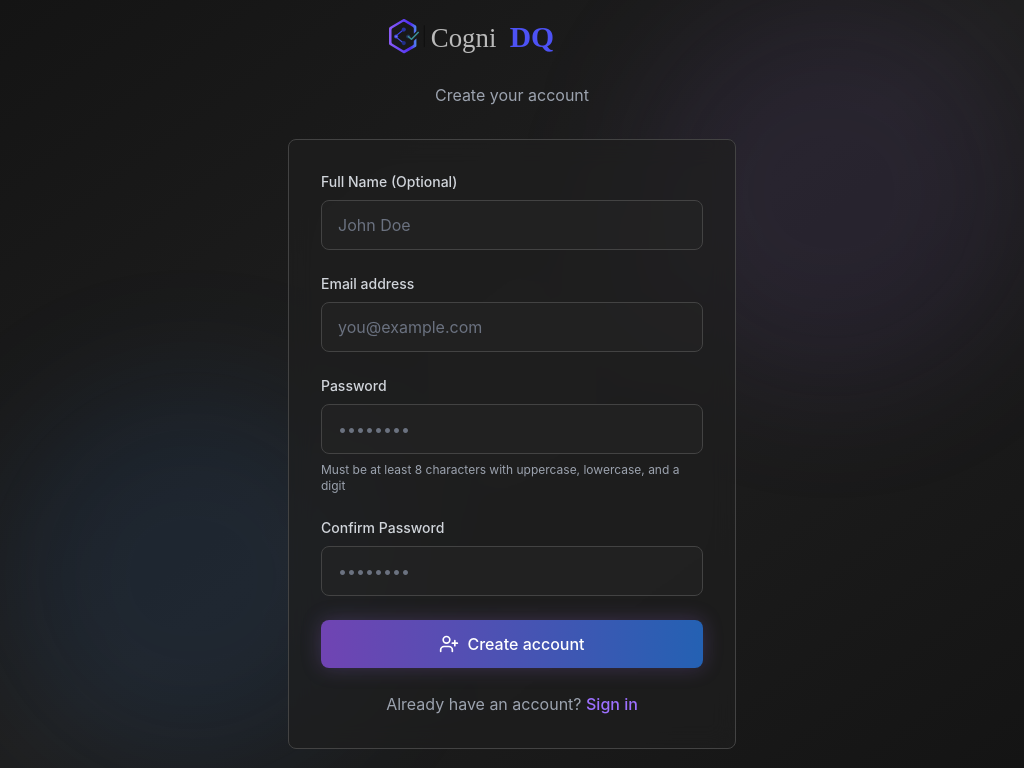
Scenario: Register — 422 error handling (F131 P01) › T01-02: displays plain string detail directly
The image size is (1024, 768).
In the field with placeholder "you@example.com": x=512, y=327 [321,302,703,352], type "test@example.com"
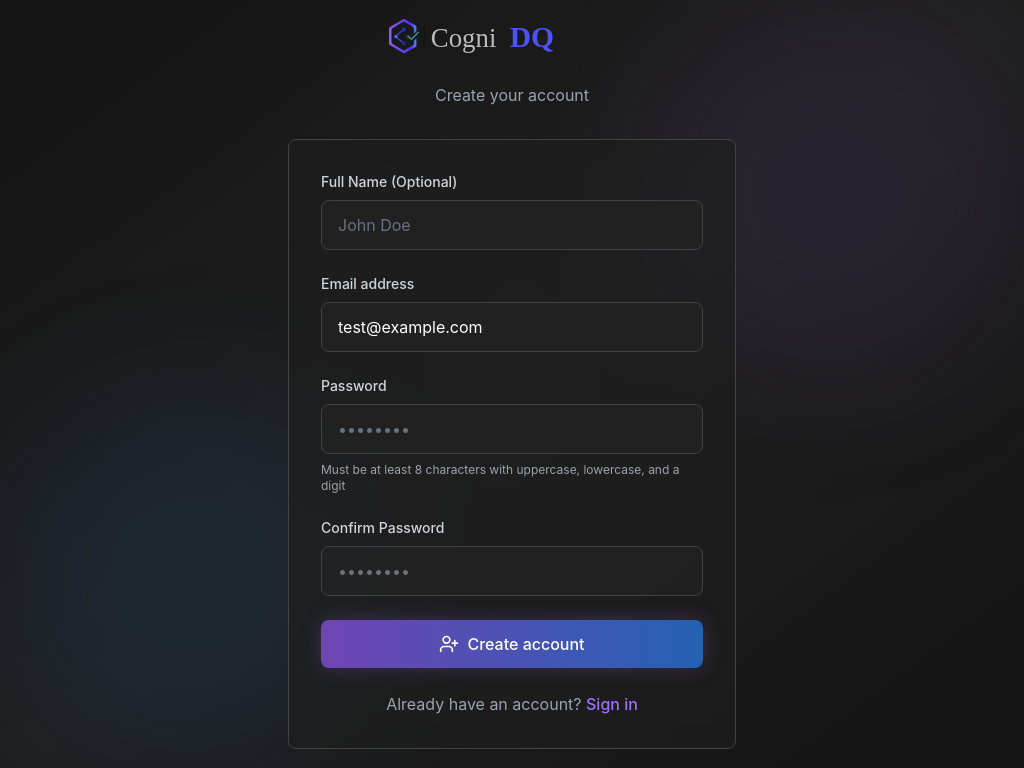
In the password field with placeholder "••••••••": x=512, y=429 [321,404,703,454], type "ValidPass1"
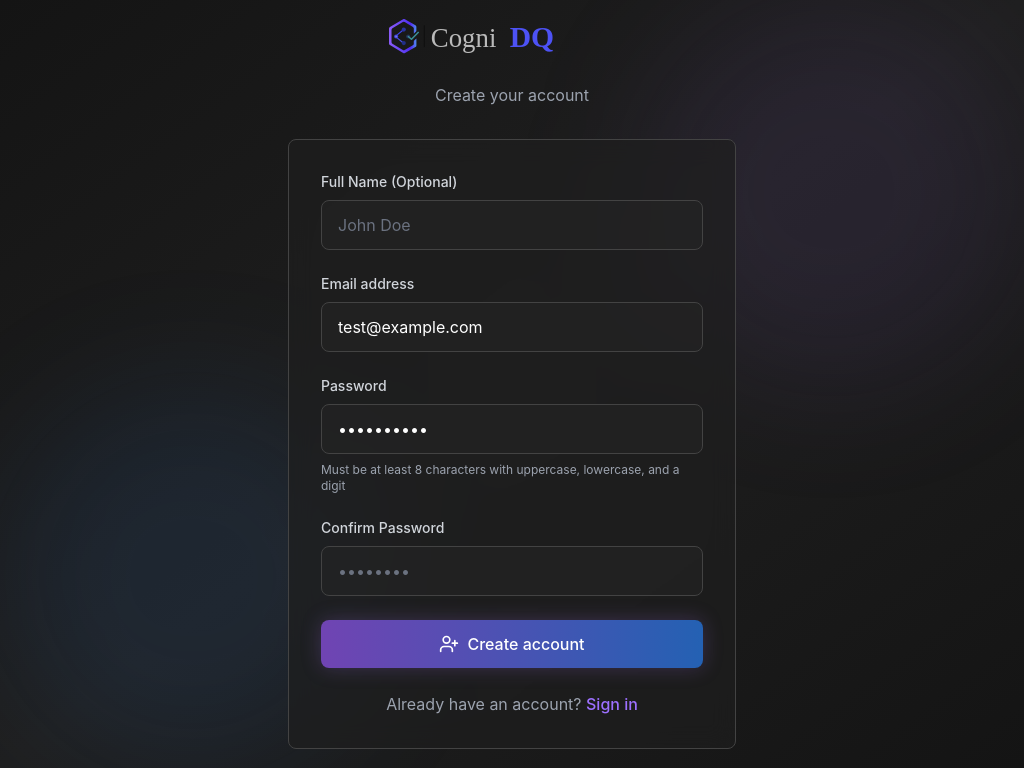
In the password field with placeholder "••••••••": x=512, y=571 [321,546,703,596], type "ValidPass1"
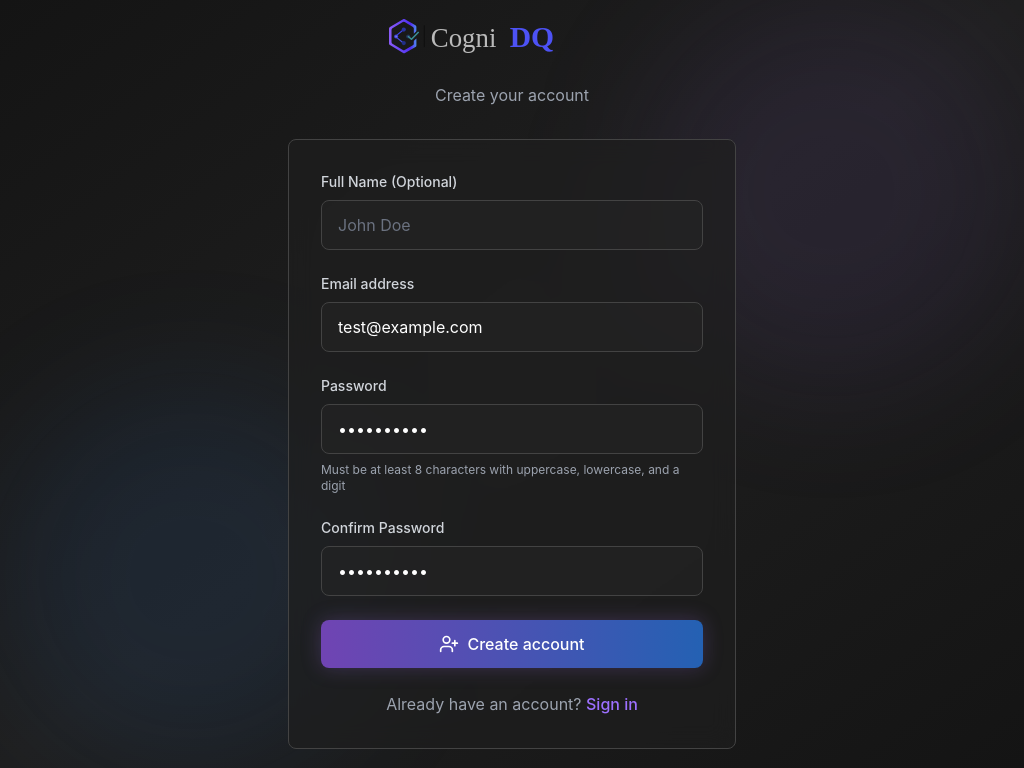
Submit the form from the button "Create account", box [321,620,703,668]
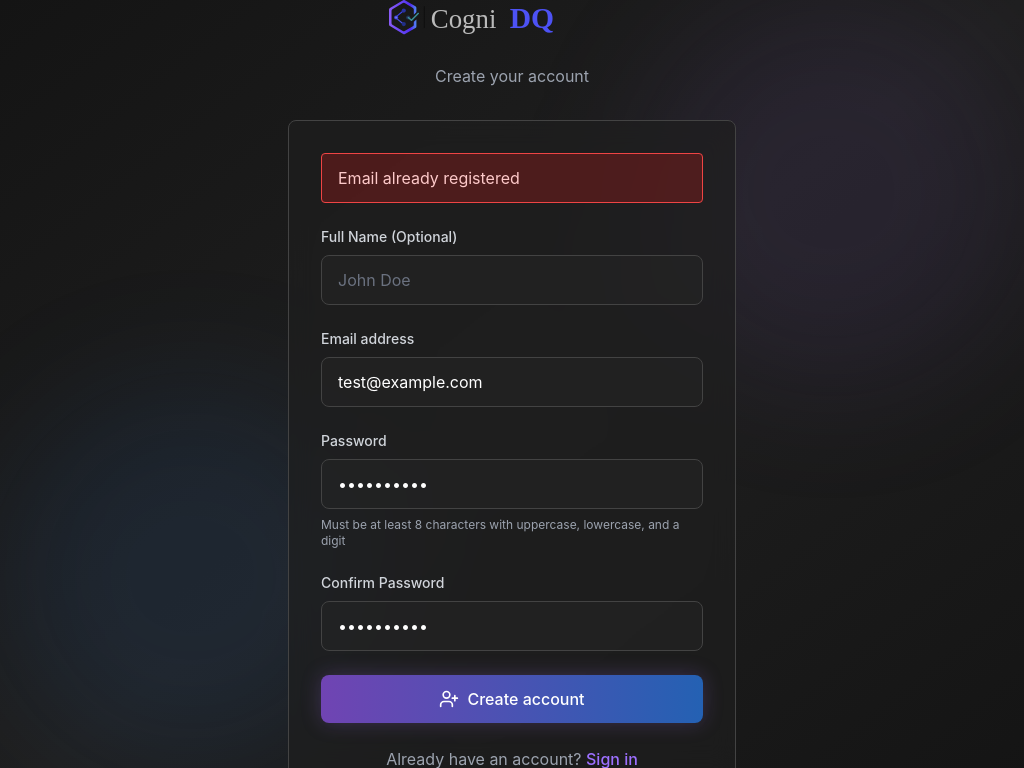
Now the text "Email already registered" is shown, box [321,153,703,203]
